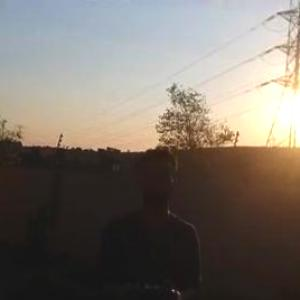follow: (86, 142, 205, 299)
